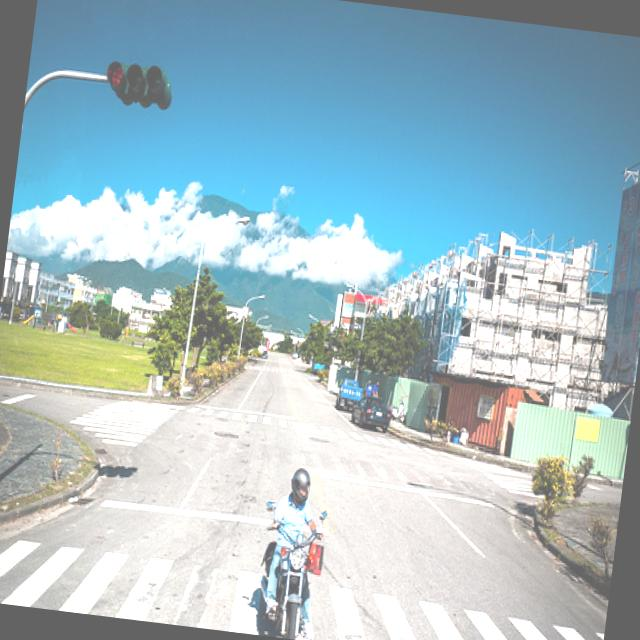Vehicle: (251, 502, 333, 640), (348, 394, 394, 432), (334, 378, 364, 412)
